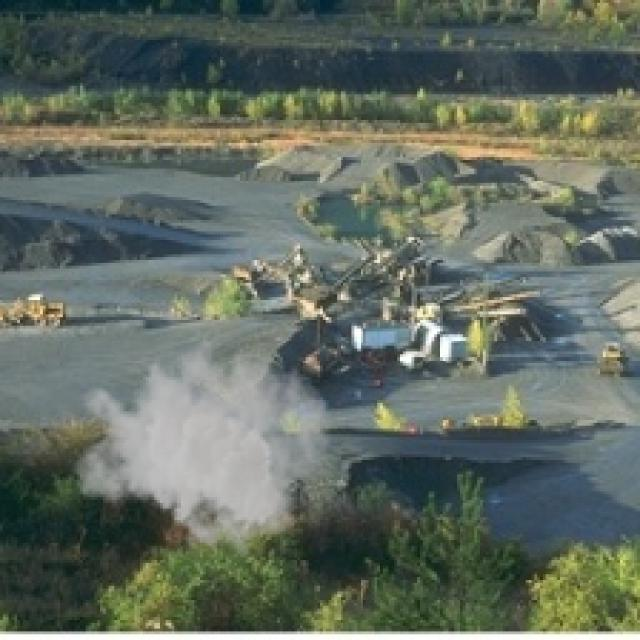smoke: (71, 323, 332, 557)
